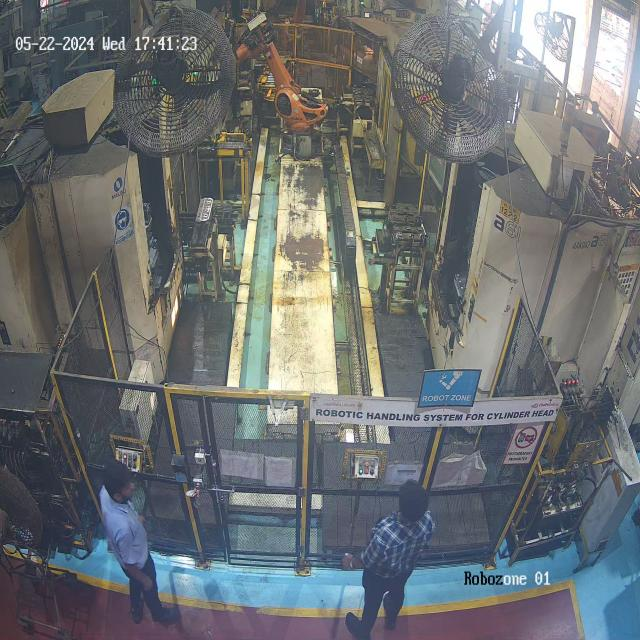person: (342, 474, 437, 640), (94, 462, 182, 624)
